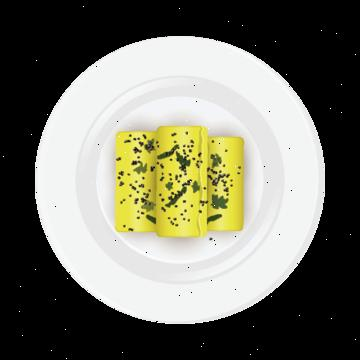khandvi: (114, 127, 254, 241)
